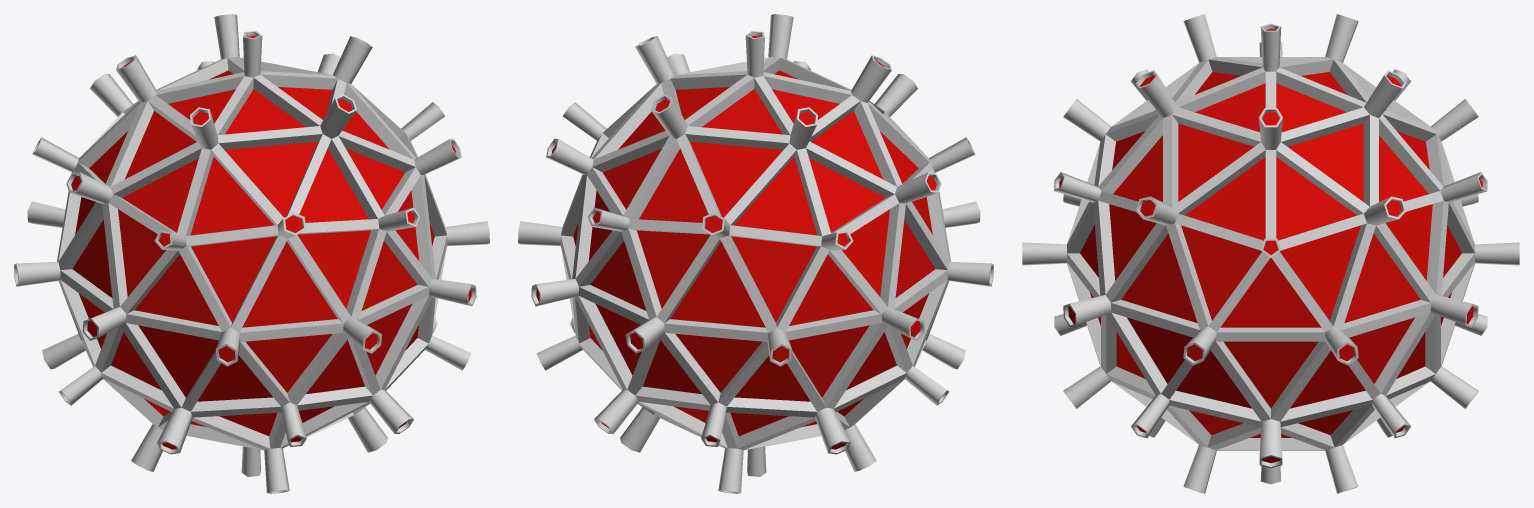
Rendered from Gravity Mine.fbx.
3 views of the same model, side by side, from view 1: azimuth 30°, elevation 25°; view 2: azimuth 150°, elevation 25°; view 3: azimuth 270°, elevation 25° (orthographic). The views are drawn at different scales.
Visible parts, largest first — view 1: Icosphere; view 2: Icosphere; view 3: Icosphere.
Part boxes in pixels (bbox=[...]): Icosphere: bbox=[14, 14, 489, 493]; Icosphere: bbox=[518, 14, 993, 493]; Icosphere: bbox=[1022, 14, 1519, 493].
Size of the model in its own units: 247 by 256 by 255.
